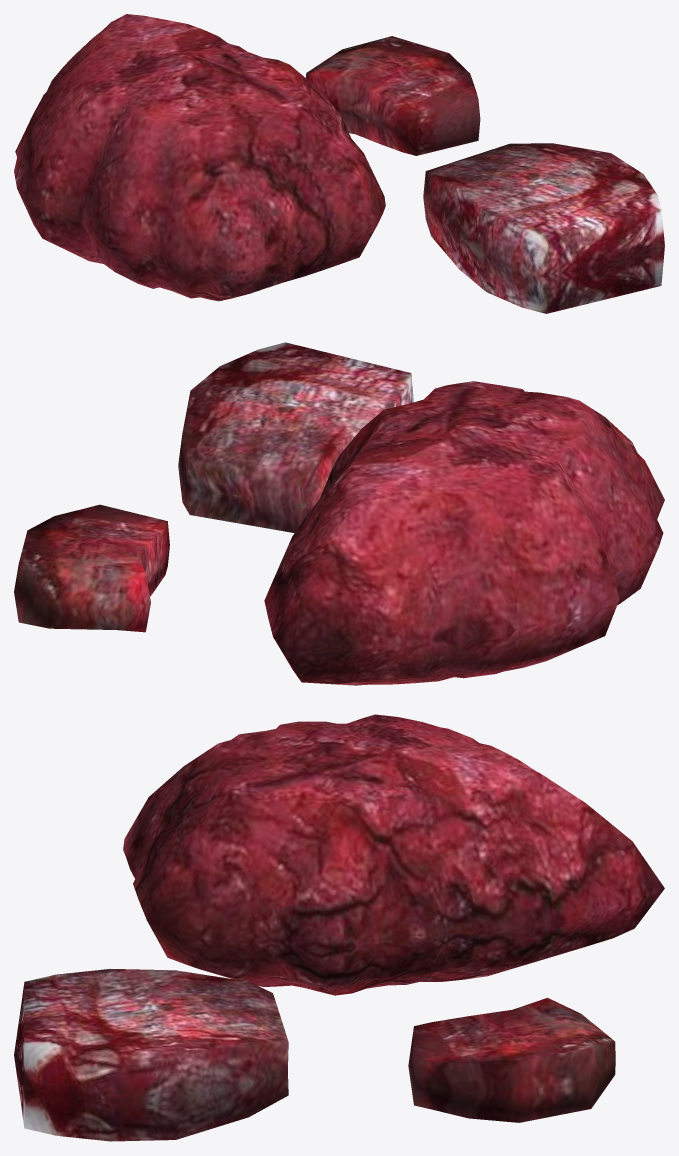
Rendered from zhusha.FBX.
3 views of the same model, one above another, from view 1: azimuth 30°, elevation 25°; view 2: azimuth 150°, elevation 25°; view 3: azimuth 270°, elevation 25° (orthographic). The views are drawn at different scales.
Parts seen in each view (by area): view 1: Line001, Box002, Box003; view 2: Line001, Box002, Box003; view 3: Line001, Box002, Box003.
Boxes of the visible parts, x1,y1,x2,y2 form: Line001: [14, 14, 385, 301]; Box002: [423, 143, 664, 313]; Box003: [306, 36, 480, 155]; Line001: [264, 381, 664, 685]; Box002: [178, 342, 413, 532]; Box003: [14, 504, 169, 632]; Line001: [123, 714, 664, 995]; Box002: [14, 968, 288, 1141]; Box003: [408, 997, 615, 1122].
Bounding box in the file's own units: 0.4426 × 0.1651 × 0.454.
Materials: 1 (1 with a texture image).
